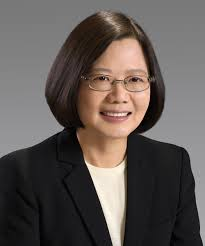asian_female: (31, 1, 172, 152)
